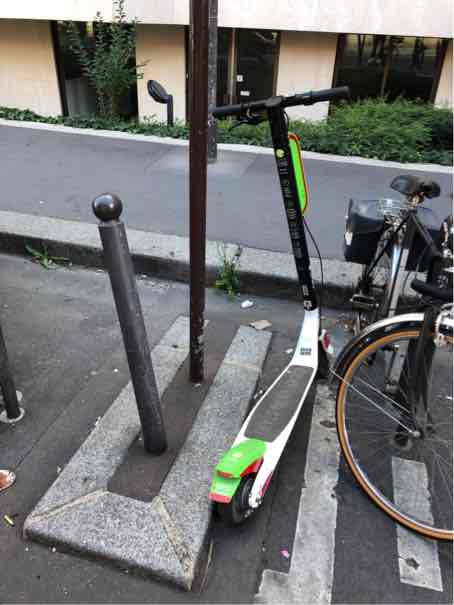scooter: (176, 57, 346, 553)
